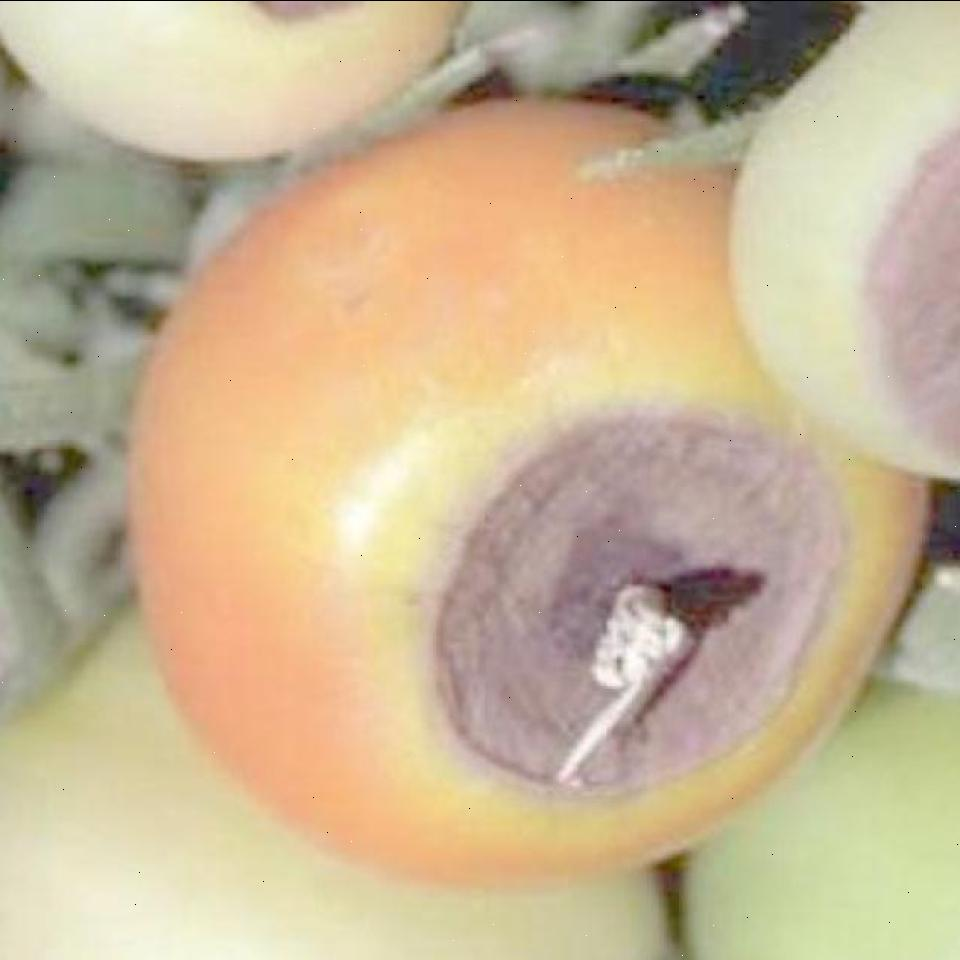Blossom_end_rot: (411, 404, 850, 792), (853, 121, 960, 467), (240, 0, 350, 26)
